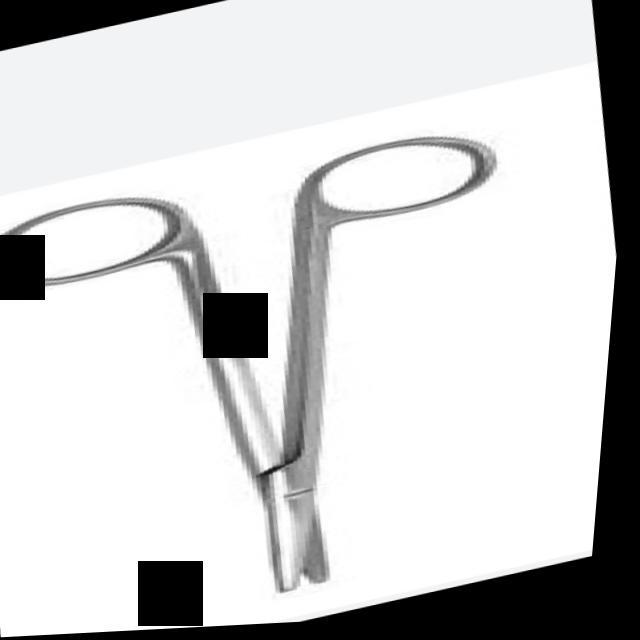Metzenbaum Sciccors: (0, 107, 583, 640)
